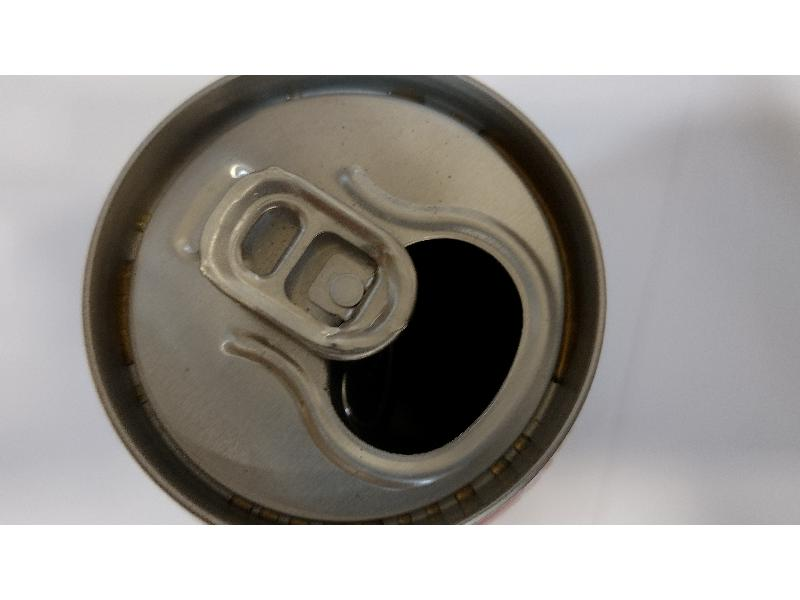can: (78, 76, 610, 524)
